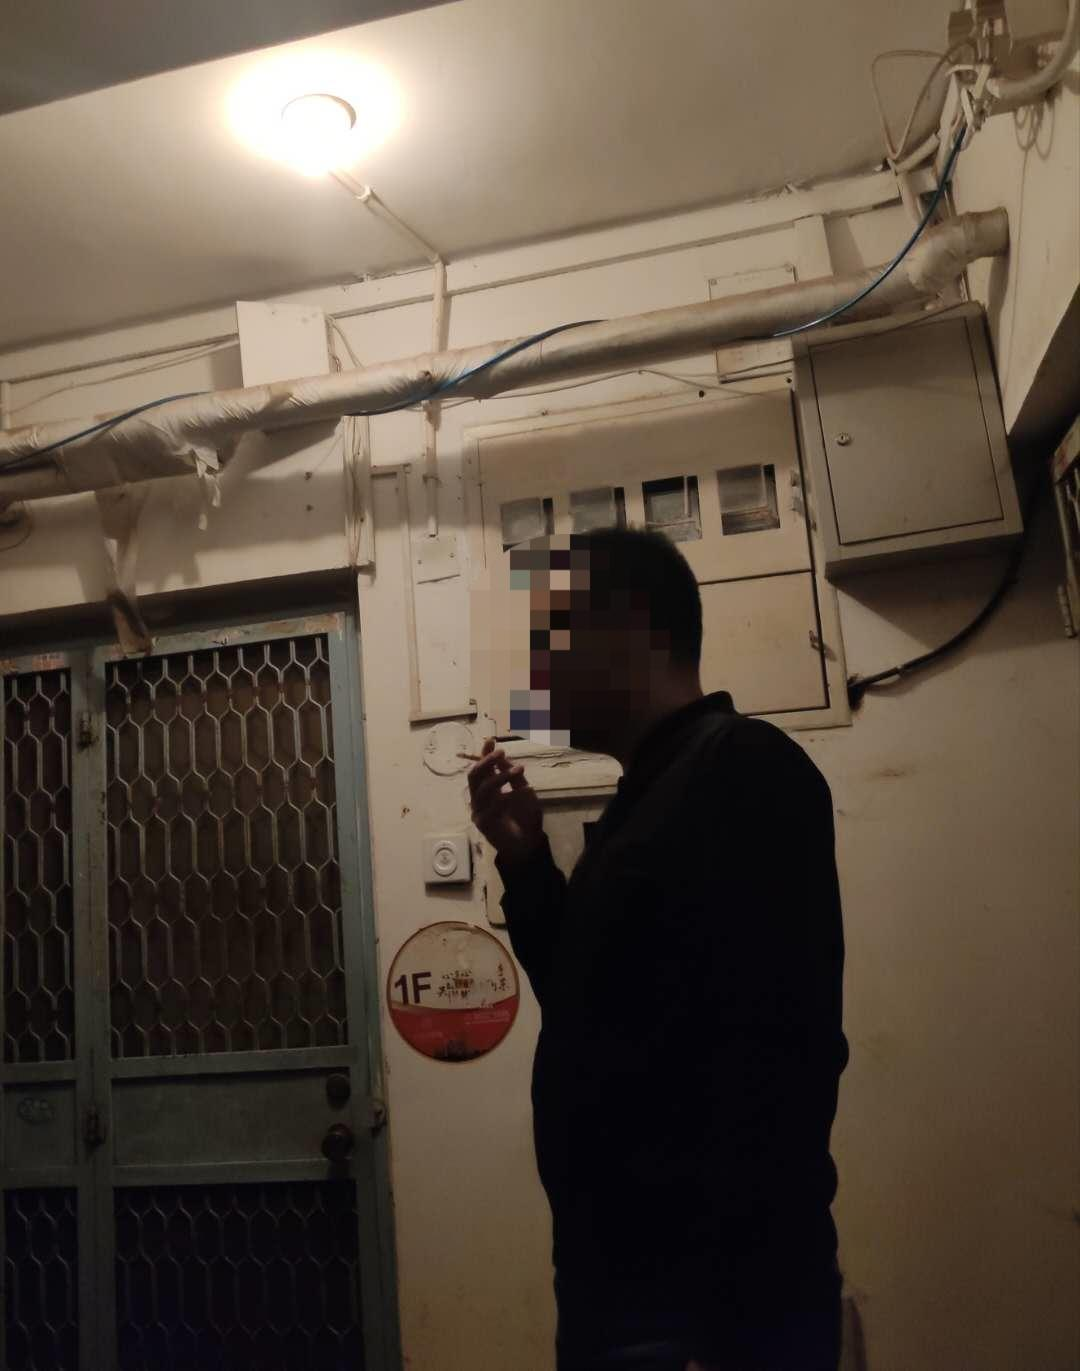smoke: (454, 748, 480, 766)
